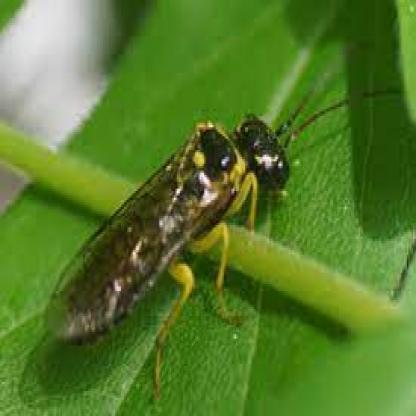sawfly: (38, 66, 406, 386)
